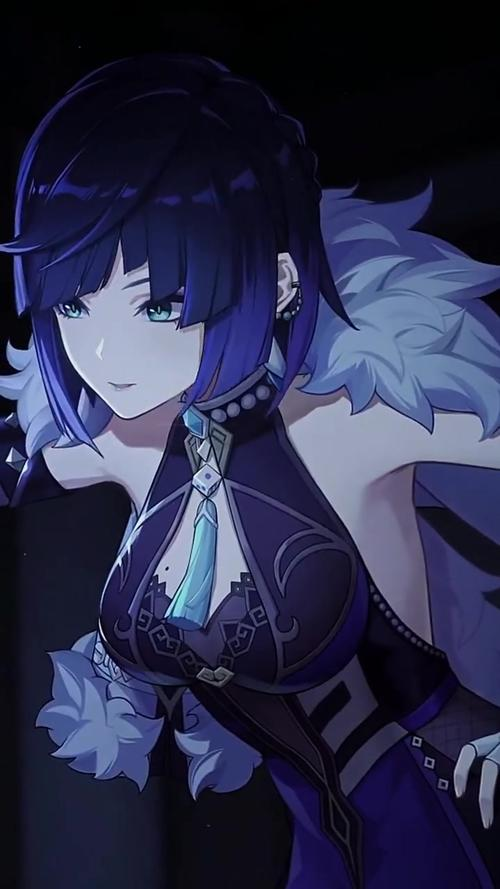夜兰: (14, 57, 500, 885)
